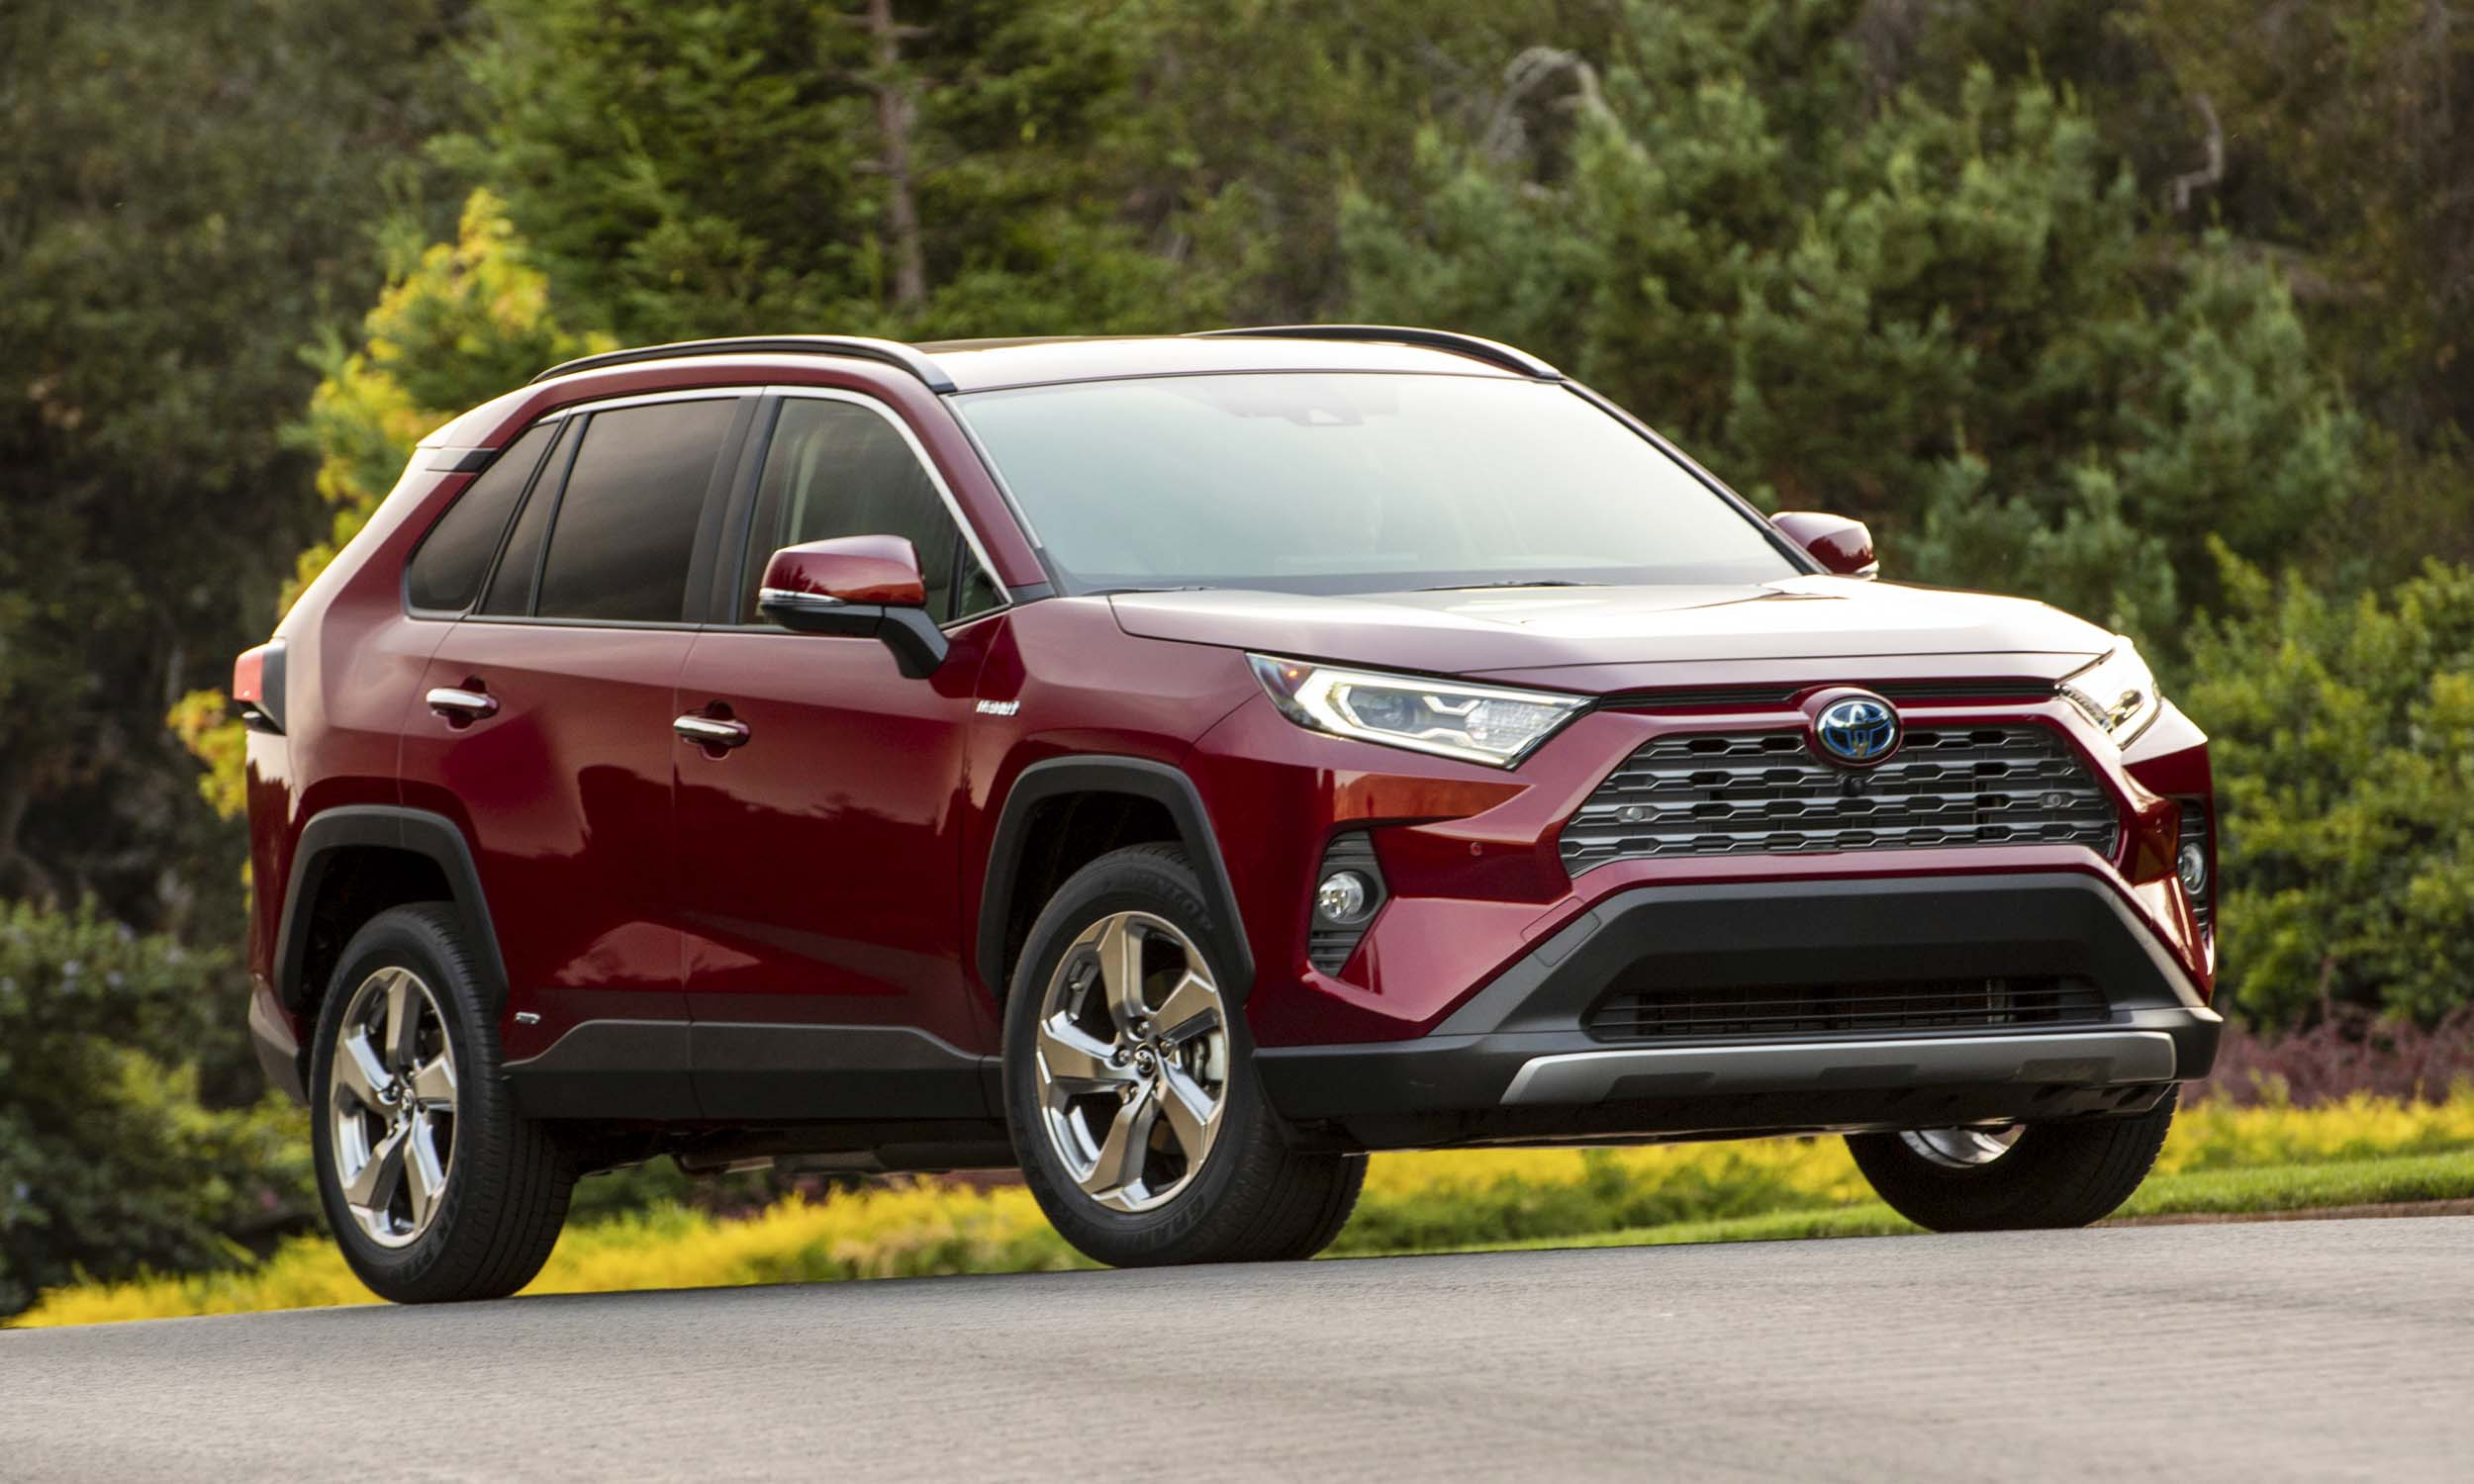car: (228, 323, 2223, 1316)
